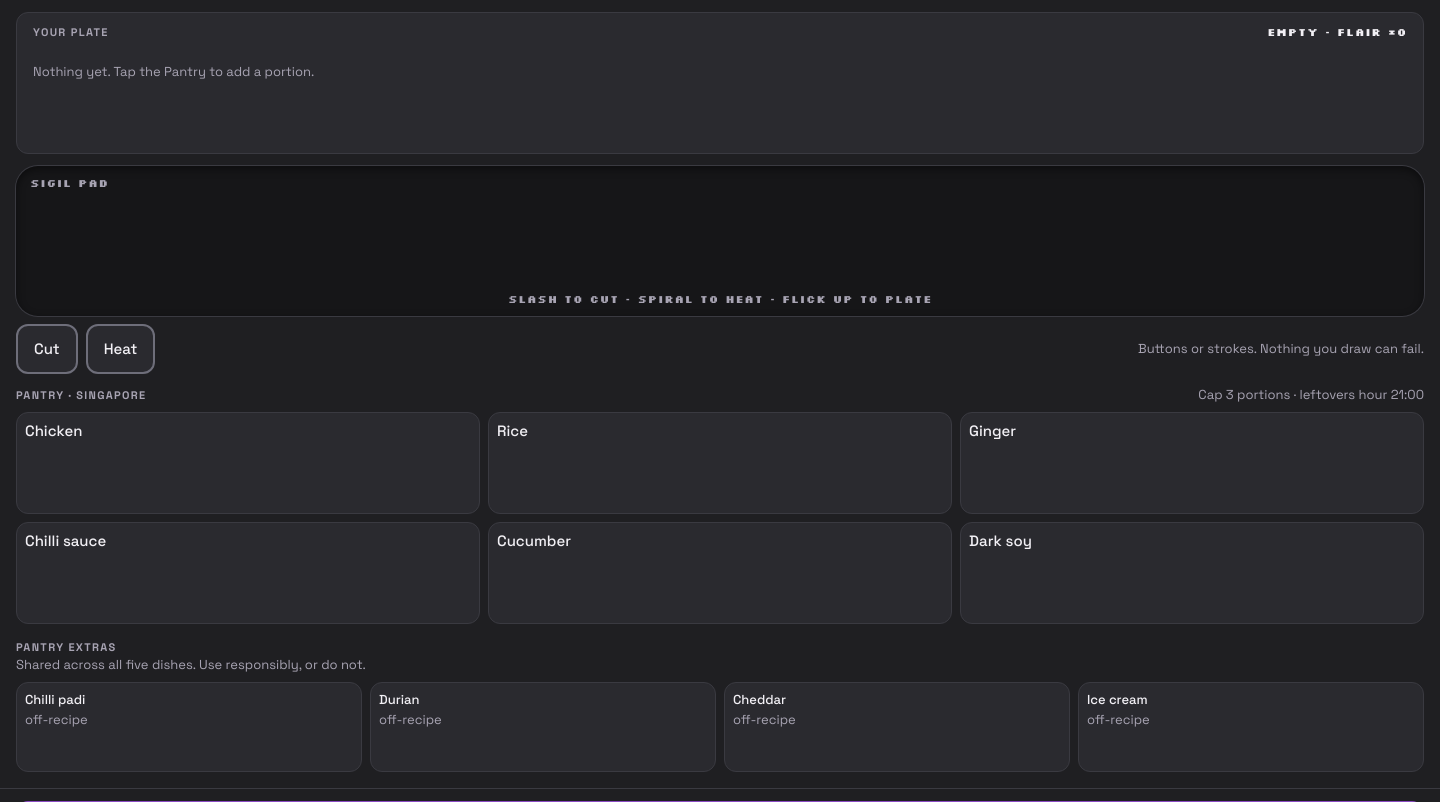
Test: the Station (the prototype’s BaD STATION on BaD’s rules) › Fling removes the aimed item; the minus button returns a portion to the shelf
Click the button "Chicken" at x=54, y=430, box [17, 413, 479, 513]
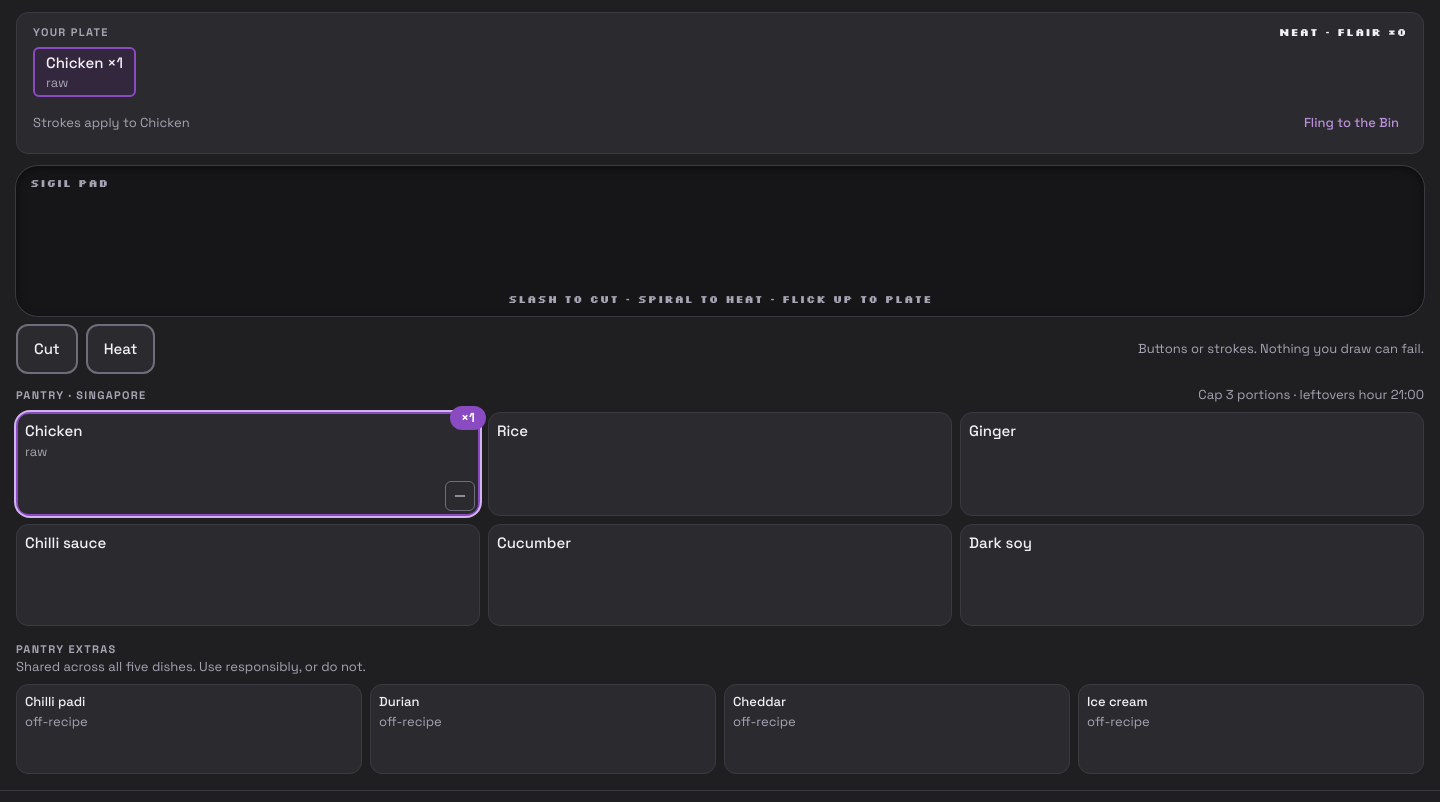
Click the button "Rice" at x=512, y=430, box [489, 413, 951, 515]
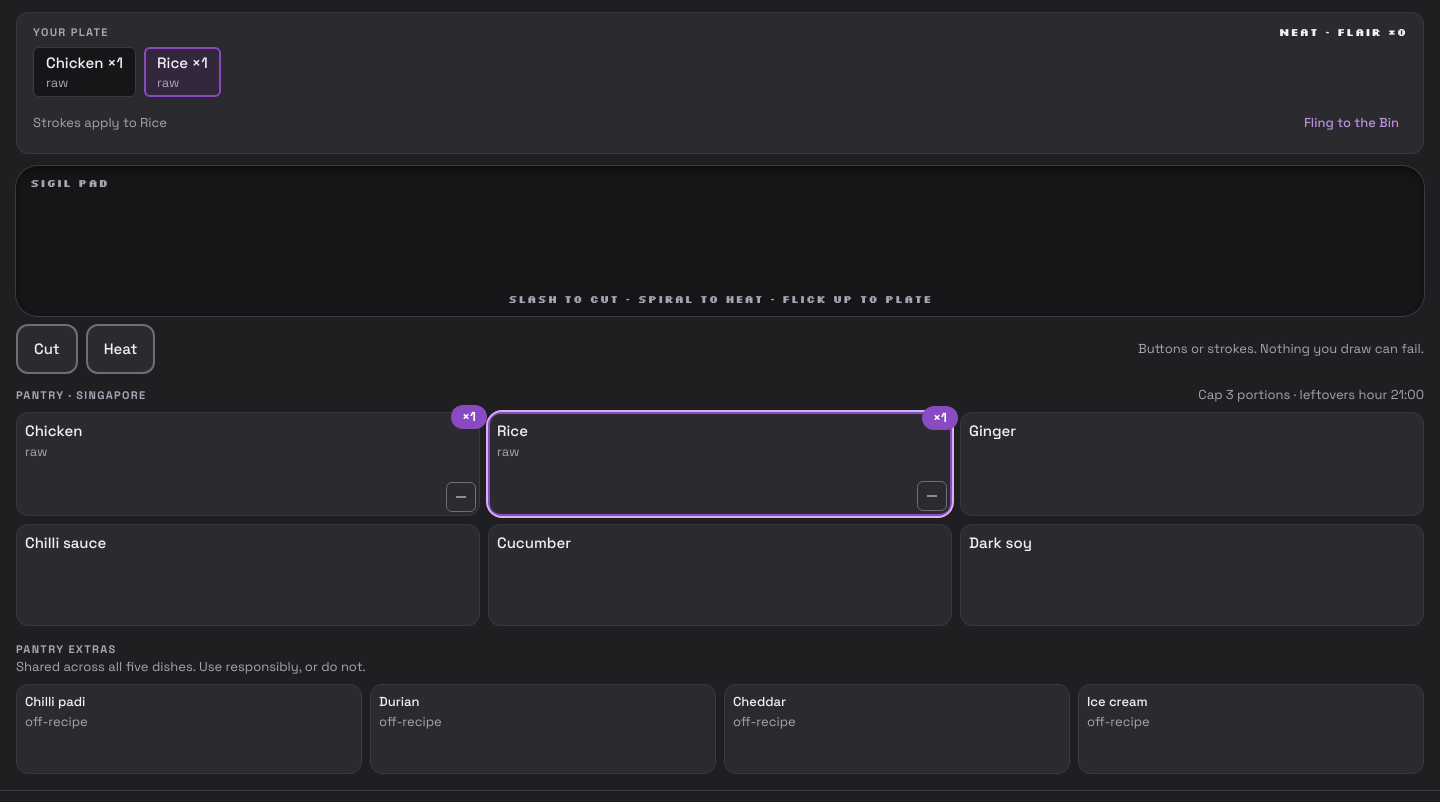
Click the button "Chicken ×1 raw" below "Your plate" at x=85, y=72, box [33, 47, 136, 97]
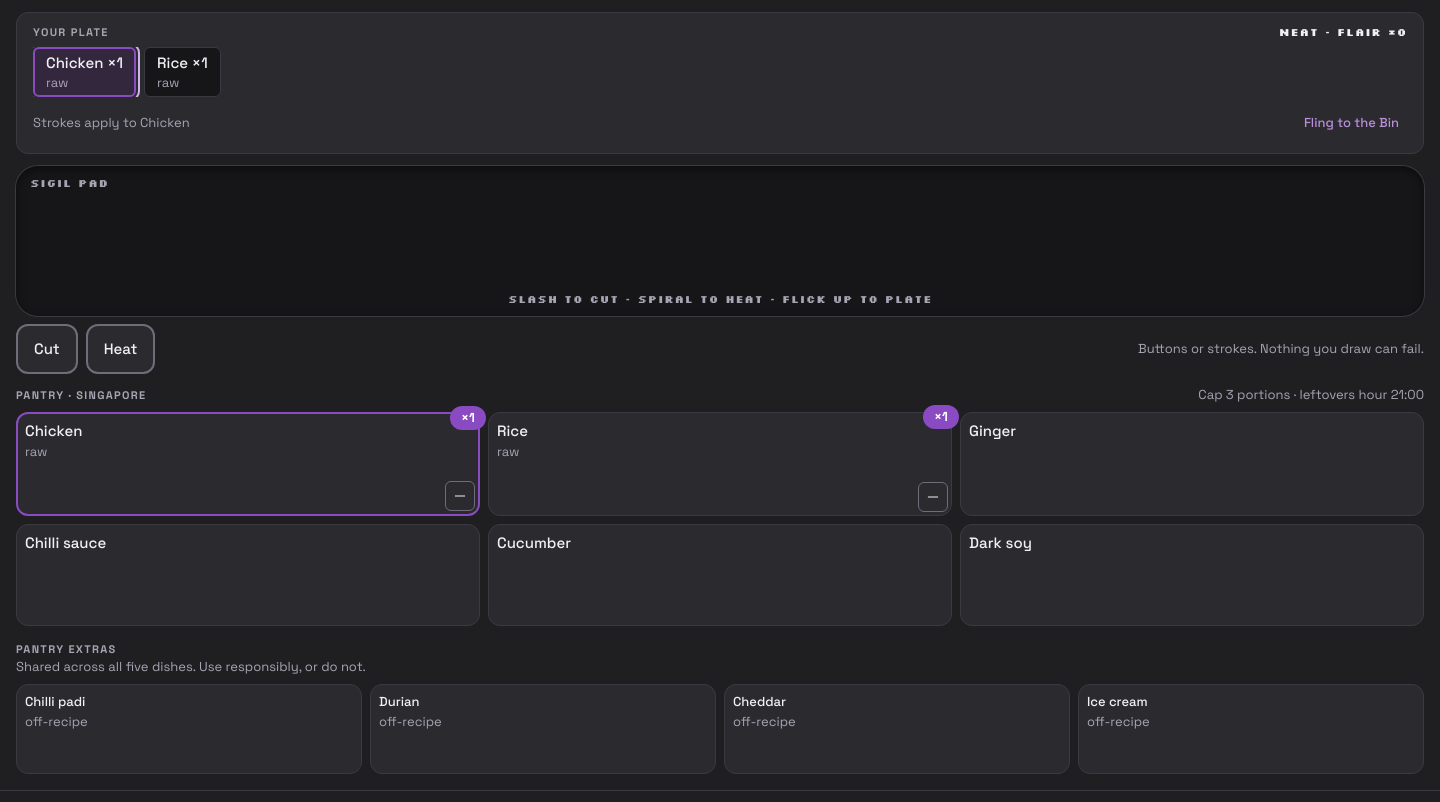
Check: the text "Strokes apply to Chicken" is shown, box [33, 114, 190, 132]
Click the button "Fling to the Bin" at x=1351, y=123, box [1296, 101, 1407, 145]
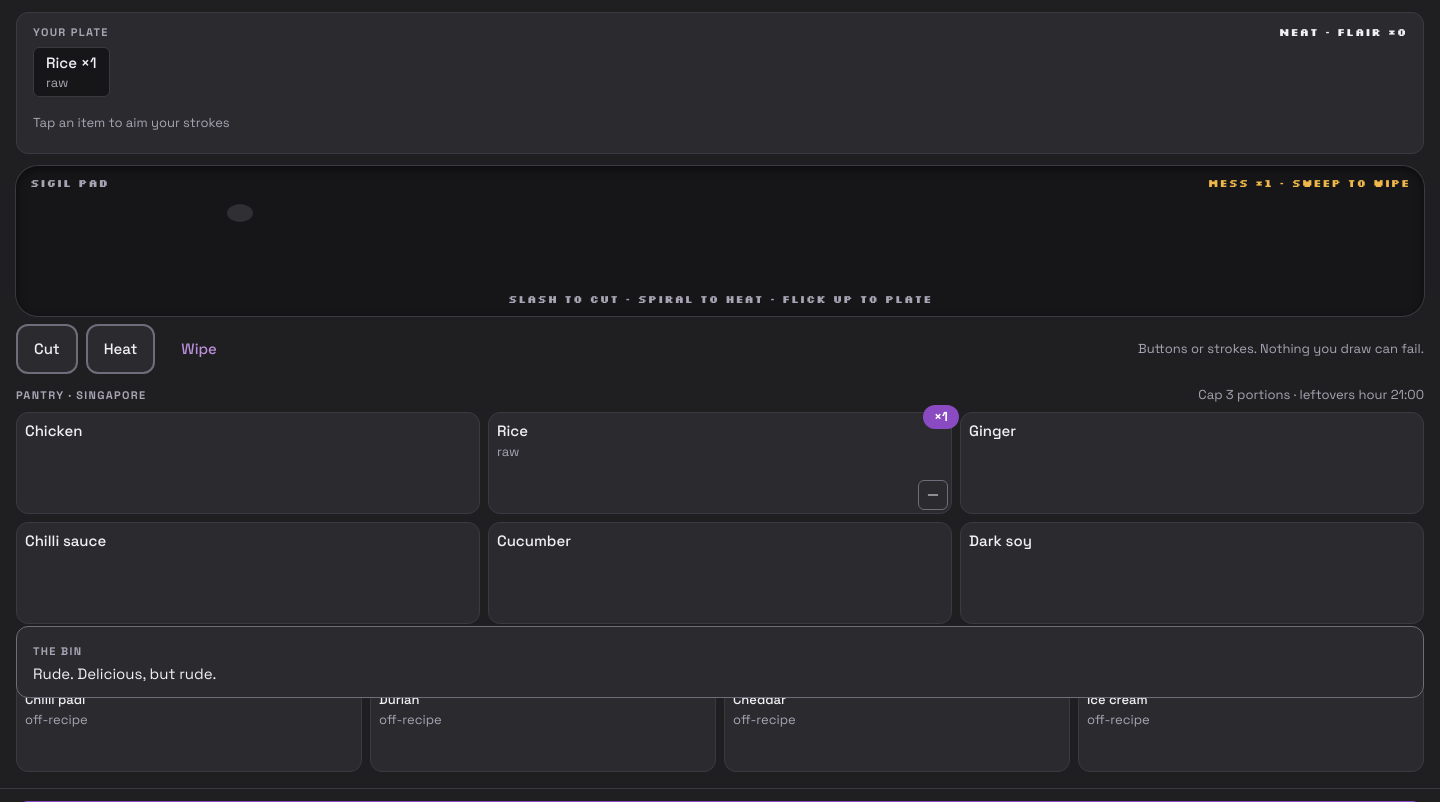
Check: the button "Chicken ×" is gone
Check: the text "Rude. Delicious, but rude." is shown, box [33, 664, 216, 683]
Check: the text "Tap an item to aim your strokes" is shown, box [33, 114, 230, 132]
Click the button named "Remove one portion" at x=933, y=495, box [911, 473, 955, 517]
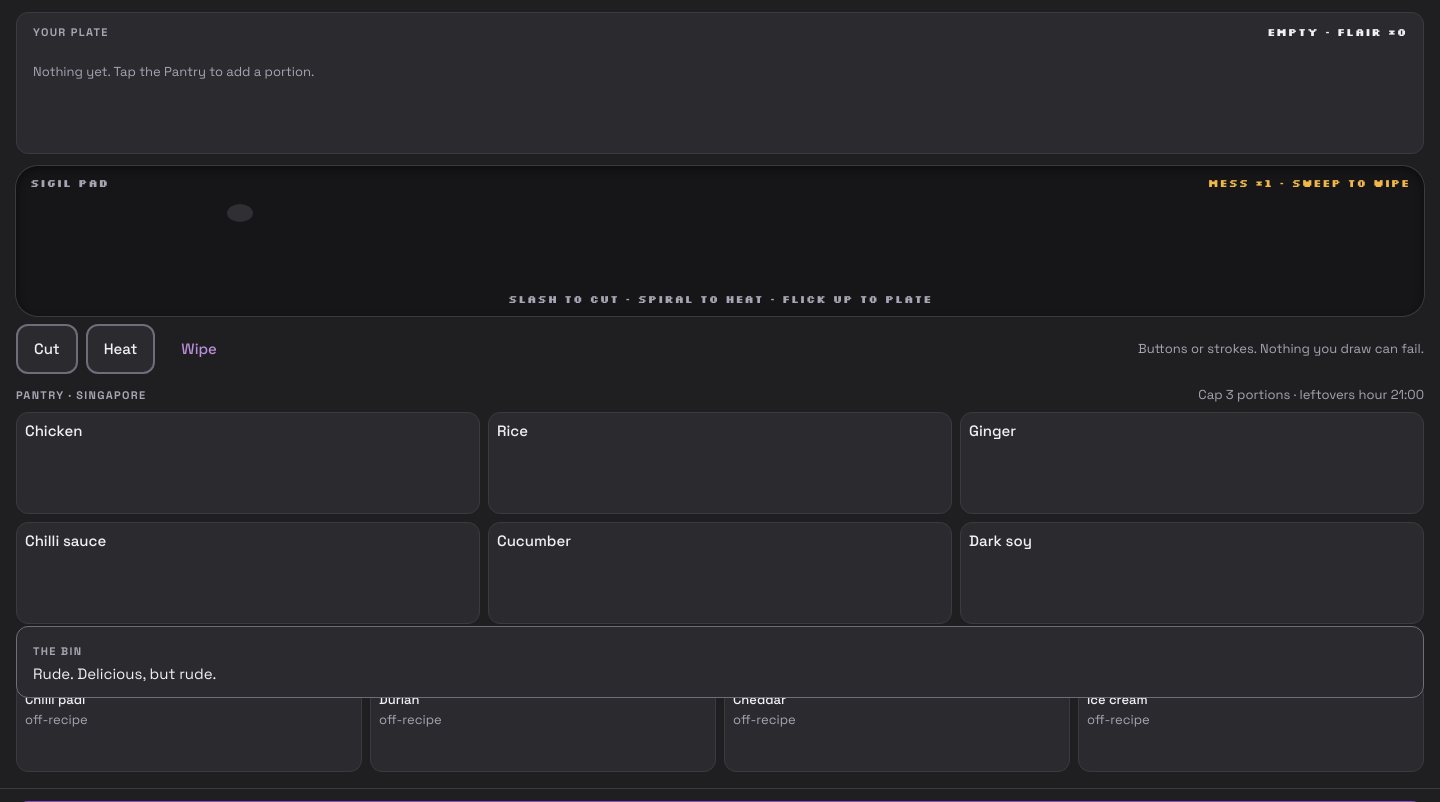
Check: the text "Nothing yet. Tap the Pantry to add a portion." is shown, box [33, 63, 314, 81]
